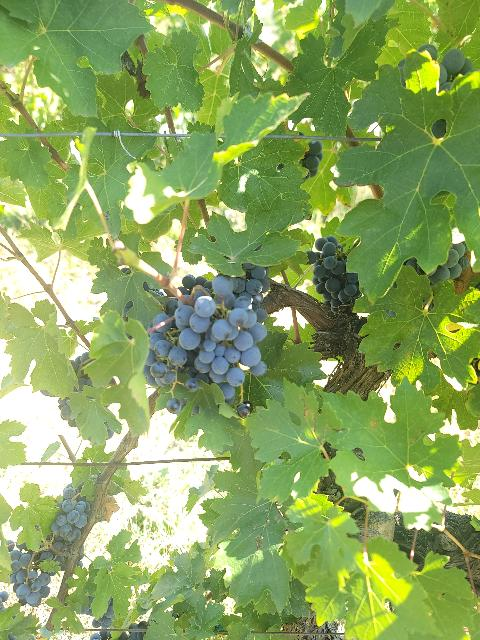grapes: (174, 276, 268, 390), (306, 235, 361, 314), (51, 485, 86, 542)
